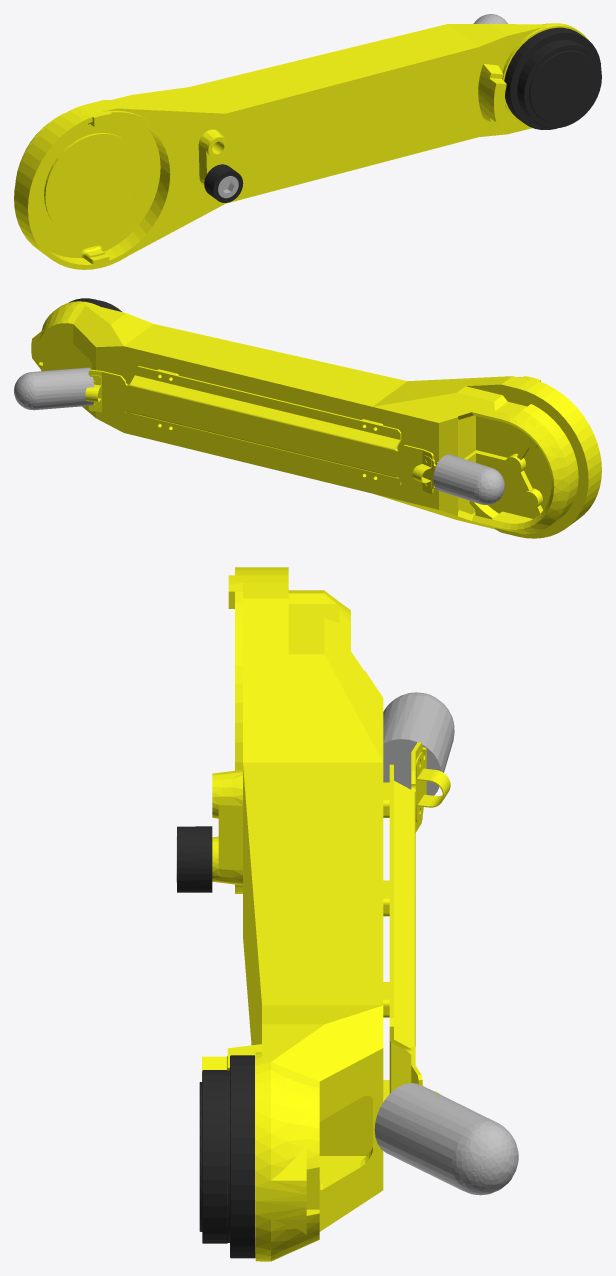
The picture shows the model from 3 angles, top to bottom: view 1: azimuth 30°, elevation 25°; view 2: azimuth 150°, elevation 25°; view 3: azimuth 270°, elevation 25°; orthographic projection. The views are drawn at different scales.
Parts seen in each view (by area): view 1: node; view 2: node; view 3: node.
Part boxes in pixels (left/top/right/bottom): node: left=14, top=14, right=601, bottom=269; node: left=14, top=298, right=601, bottom=538; node: left=176, top=567, right=518, bottom=1261.
Bounding box in the file's own units: 1000 × 256 × 330.
